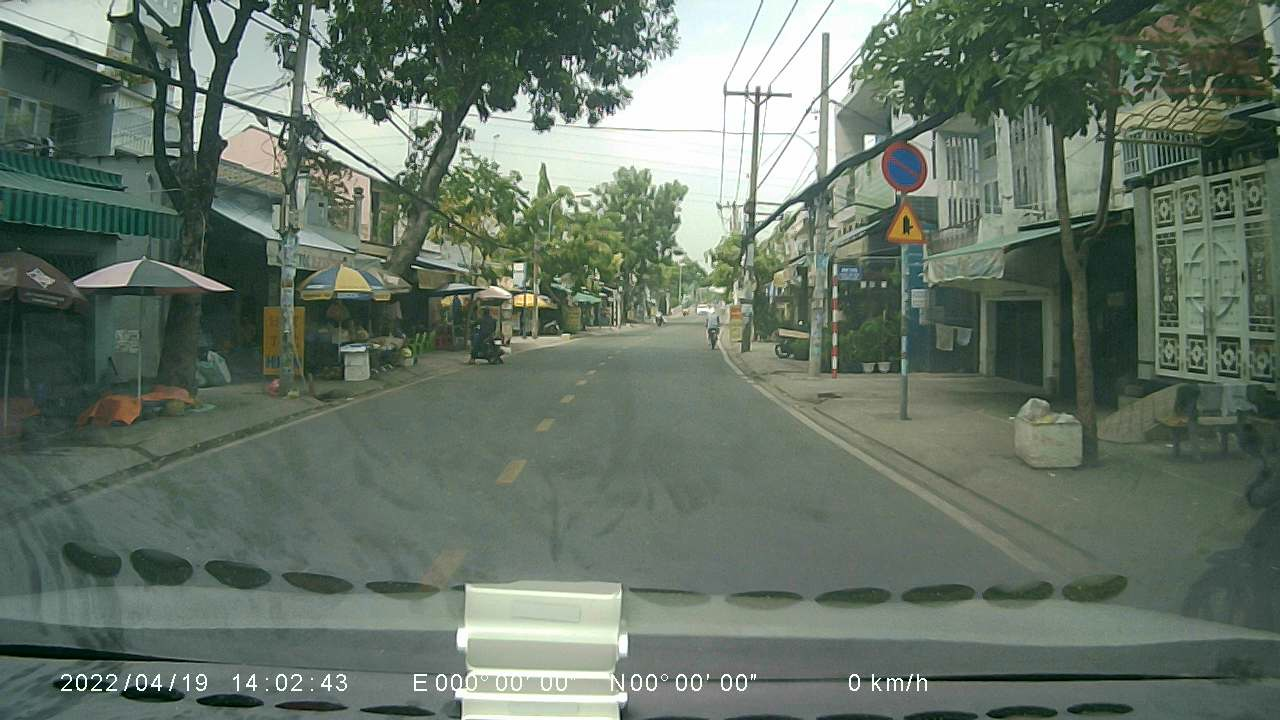Cam do xe: (879, 139, 931, 191)
Giao nhau voi duong khong uu tien: (886, 196, 926, 244)
